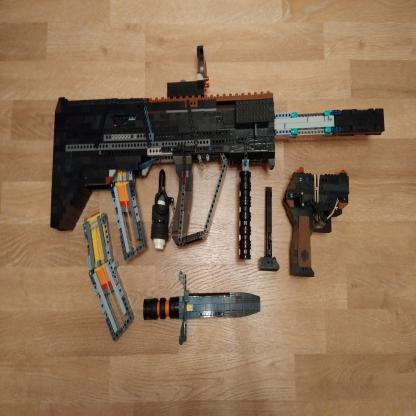Gun: (50, 41, 386, 233)
Knife: (142, 270, 262, 347)
Pistol: (281, 166, 350, 280)
